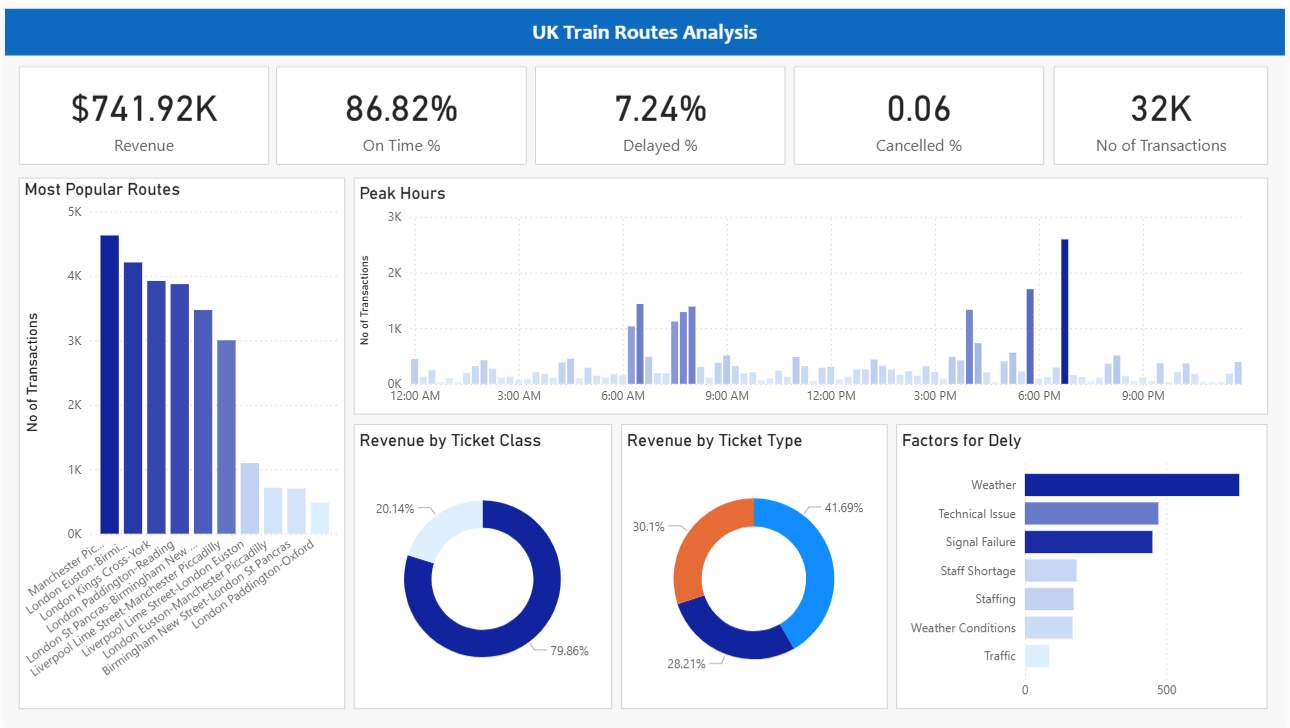

The dashboard page shown, as its layout file describes it:
{"tool":"powerbi","page":{"name":"Page 1","canvas":[1280,720],"ordinal":0},"visuals":[{"type":"shape","box":[0,0,1279.8,46.6],"z":0},{"type":"columnChart","title":"Most Popular Routes","fields":{"Y":["Key Measures.No of Transactions"],"Category":["railway.Route"]},"box":[13.5,169.3,326.4,531.3],"z":1000},{"type":"columnChart","title":"Peak Hours","fields":{"Y":["Key Measures.No of Transactions"],"Category":["railway.Departure Time"]},"box":[348.7,169,914.3,236.9],"z":2000},{"type":"donutChart","fields":{"Category":["railway.Ticket Class"],"Y":["Key Measures.Revenue"]},"box":[348.7,415.2,258.2,284.8],"z":3000},{"type":"donutChart","fields":{"Y":["Key Measures.Revenue"],"Series":["railway.Ticket Type"]},"box":[616.2,415.2,266.2,284.8],"z":4000},{"type":"barChart","title":"Factors for Dely","fields":{"Category":["railway.Reason for Delay"],"Y":["Key Measures.No of Delays"]},"box":[891.7,415.2,371.3,284.8],"z":5000},{"type":"card","fields":{"Values":["Key Measures.Revenue"]},"box":[13.3,57.2,250.2,98.5],"z":6000},{"type":"card","fields":{"Values":["Key Measures.On Time %"]},"box":[271.5,57.2,250.2,98.5],"z":7000},{"type":"card","fields":{"Values":["Key Measures.Delayed %"]},"box":[529.7,57.2,250.2,98.5],"z":8000},{"type":"card","fields":{"Values":["Key Measures.Cancelled %"]},"box":[789.2,57.2,250.2,98.5],"z":9000},{"type":"card","fields":{"Values":["Key Measures.No of Transactions"]},"box":[1048.7,57.2,214.3,98.5],"z":10000}]}

Visuals, with their boxes in screenshot pixels (x1, y1, x2, y2), scaled from the page's 1280x720 canvas onto the 1290x728 screenshot:
shape: 0/0/1289/47
"Most Popular Routes" columnChart: 14/171/343/708
"Peak Hours" columnChart: 351/171/1273/410
donutChart - railway.Ticket Class x Key Measures.Revenue: 351/420/612/708
donutChart - Key Measures.Revenue x railway.Ticket Type: 621/420/889/708
"Factors for Dely" barChart: 899/420/1273/708
card - Key Measures.Revenue: 13/58/266/157
card - Key Measures.On Time %: 274/58/526/157
card - Key Measures.Delayed %: 534/58/786/157
card - Key Measures.Cancelled %: 795/58/1048/157
card - Key Measures.No of Transactions: 1057/58/1273/157
